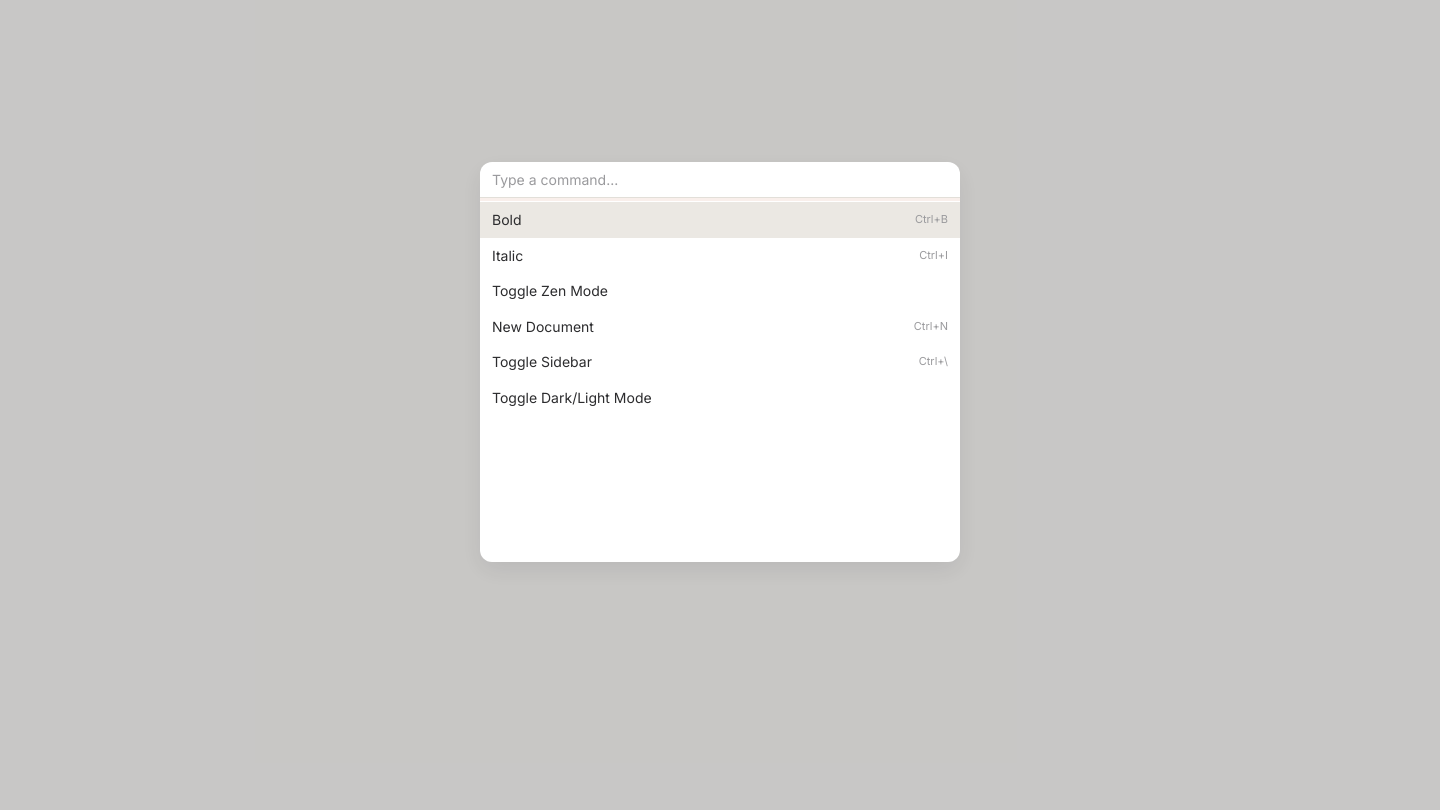
Test: CommandPalette › filters commands as user types in the search input
Type "zen" into the field with placeholder "Type a command..." at (720, 180), box [480, 162, 960, 198]
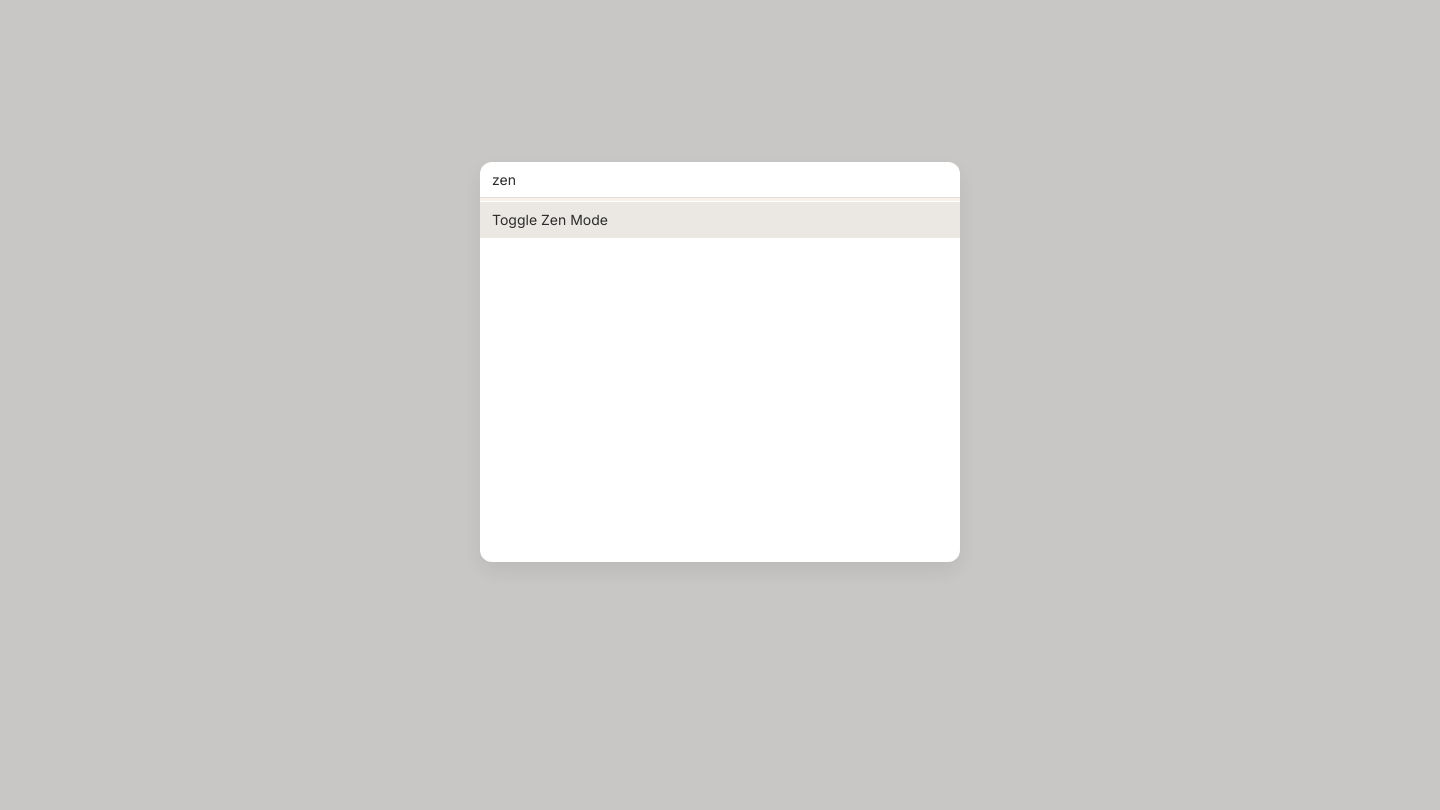
expect the text "Toggle Zen Mode" is shown: met, box [492, 211, 608, 228]
expect the text "Bold" is gone: met
expect the text "Italic" is gone: met
